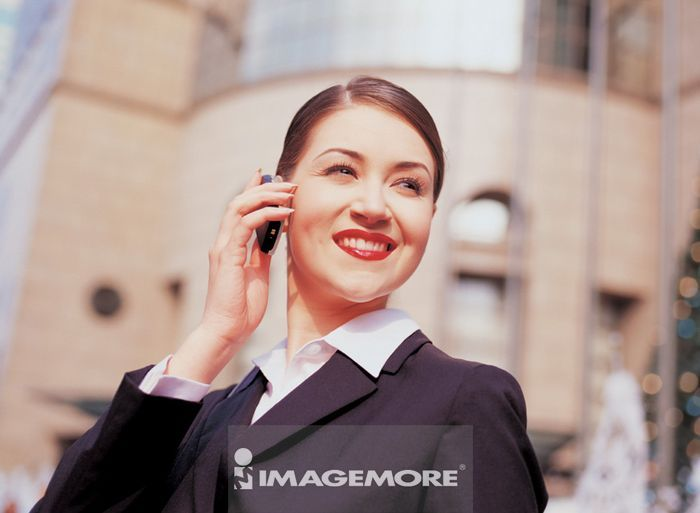talk: (207, 141, 430, 353)
